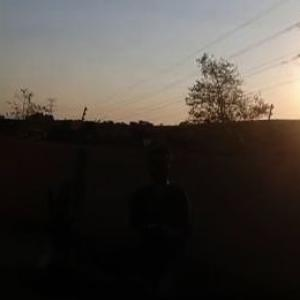follow: (121, 134, 196, 299)
